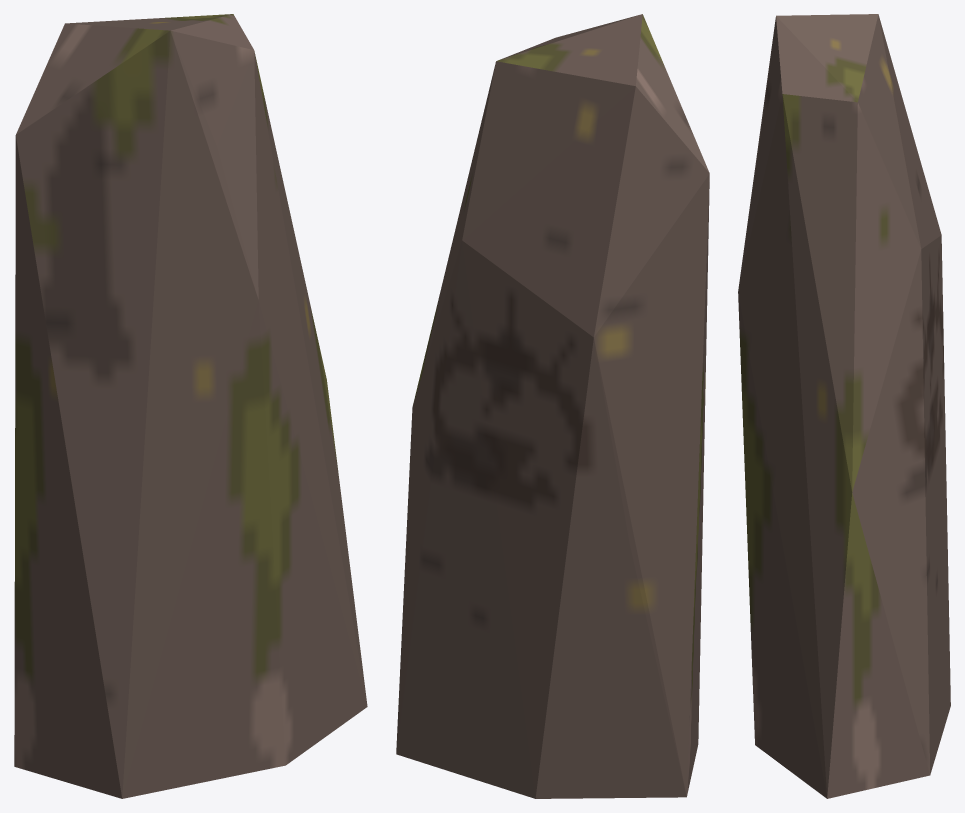
The model's file is SM_MK05_StoneMarkTall.fbx.
3 views of the same model, side by side, from view 1: azimuth 30°, elevation 25°; view 2: azimuth 150°, elevation 25°; view 3: azimuth 270°, elevation 25° (orthographic). The views are drawn at different scales.
Parts seen in each view (by area): view 1: MK05_Stone; view 2: MK05_Stone; view 3: MK05_Stone.
Boxes of the visible parts, <box> form: MK05_Stone: <box>14,14,367,798</box>; MK05_Stone: <box>396,14,709,798</box>; MK05_Stone: <box>738,14,950,798</box>.
Size of the model in its own units: 0.6144 by 1.31 by 0.3691.
